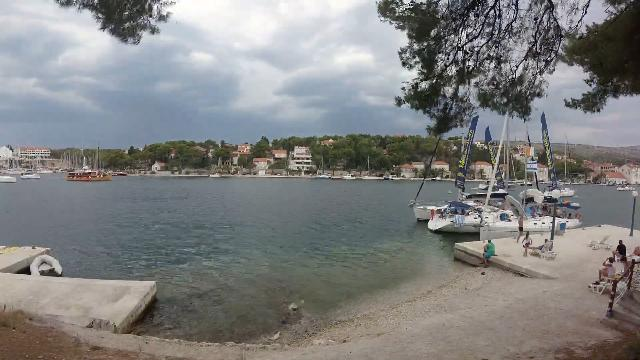Freighter: (63, 165, 117, 185)
Sailboat: (17, 169, 43, 183)
